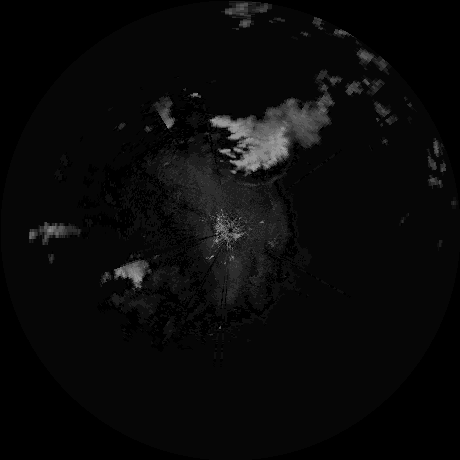frontgust: (235, 171, 287, 188)
